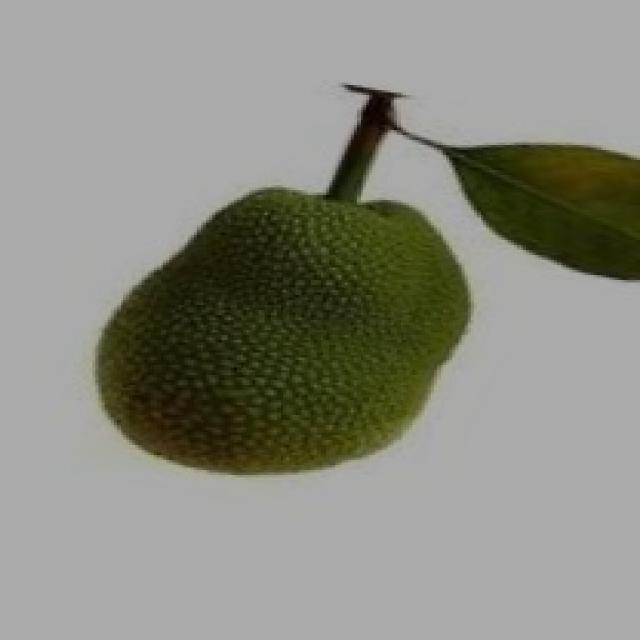Fruit: (77, 167, 492, 495)
